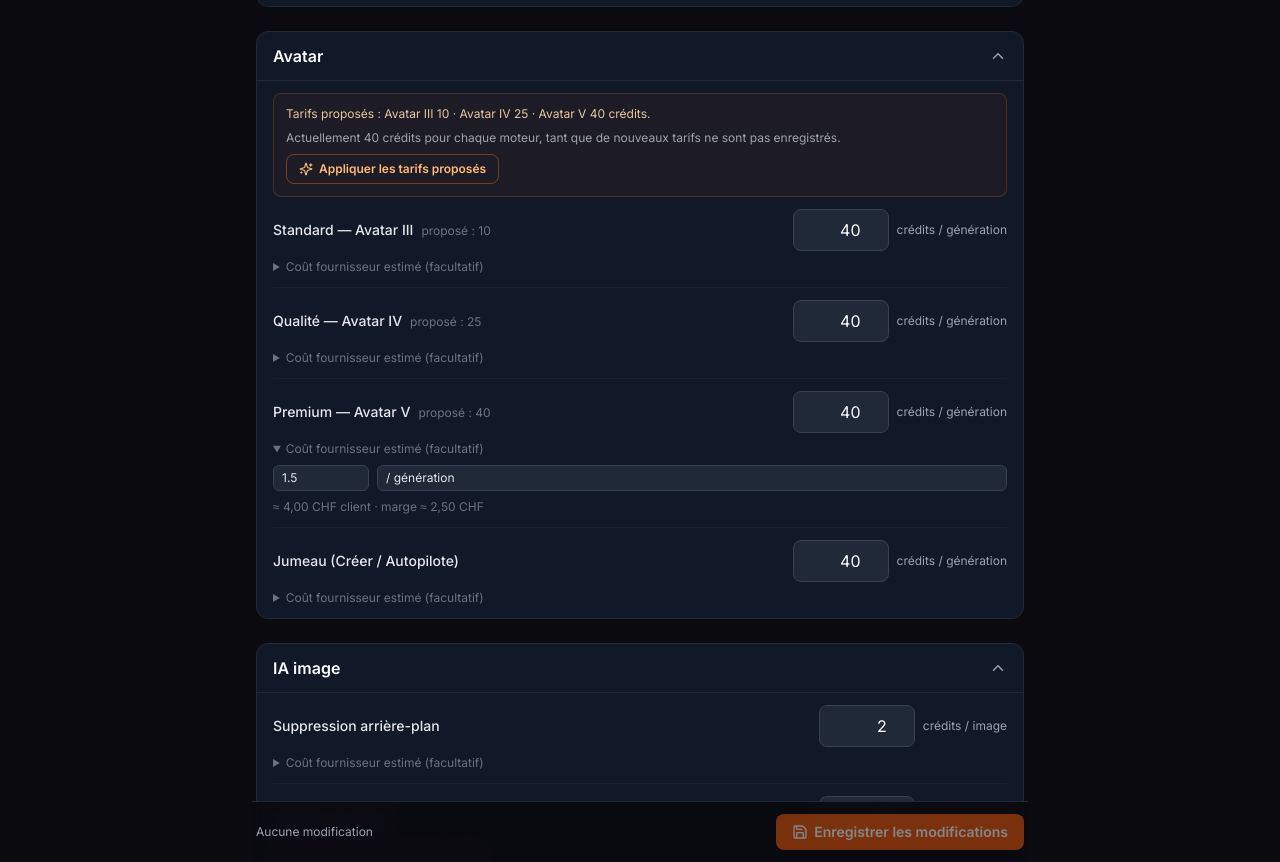
Test: /admin/tarifs › Confirmer envoie un PUT avec les seules clés modifiées
(page scrolled)
Replace the text in the number field labelled "Premium — Avatar V" with "60" at (840, 412), box [792,391,888,433]
(page scrolled)
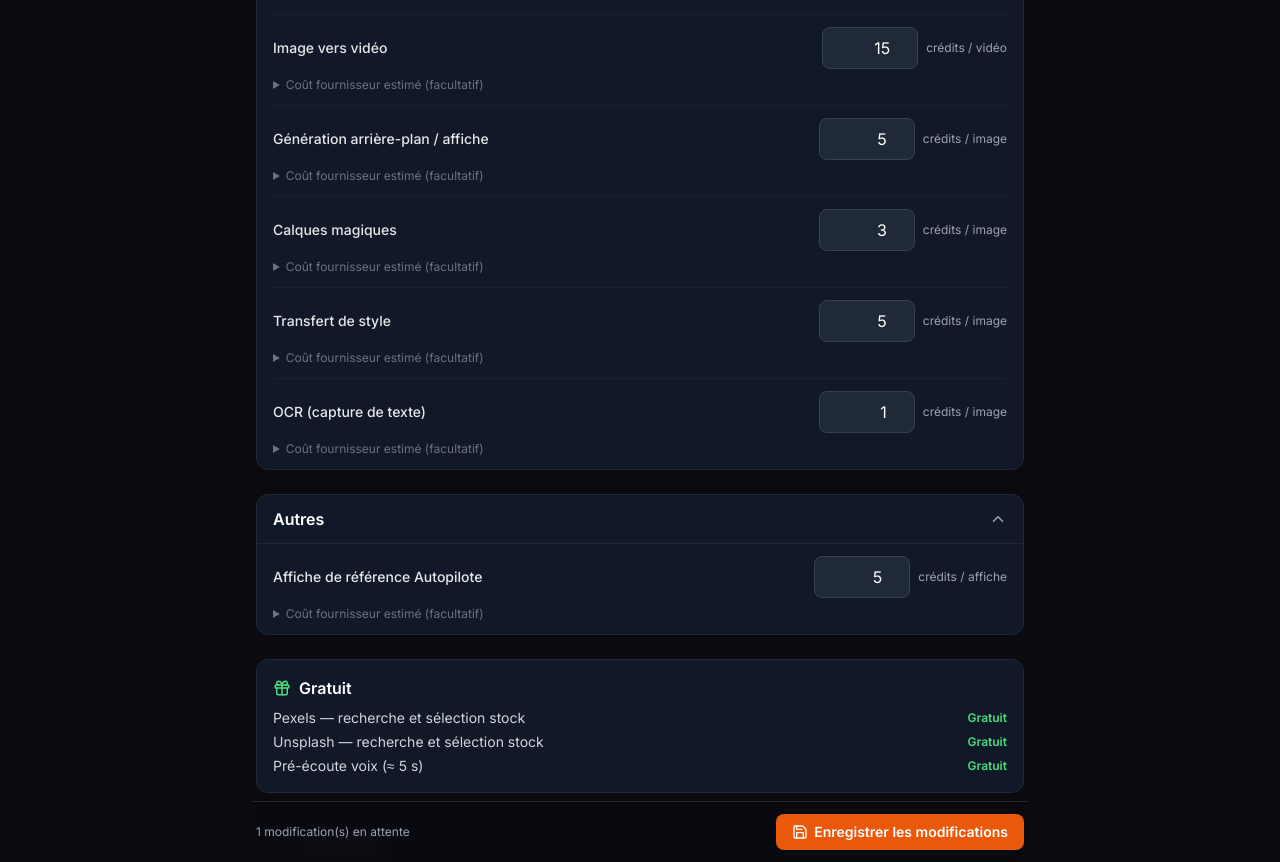
Replace the text in the number field labelled "OCR (capture de texte)" with "2" at (867, 412), box [819,391,915,433]
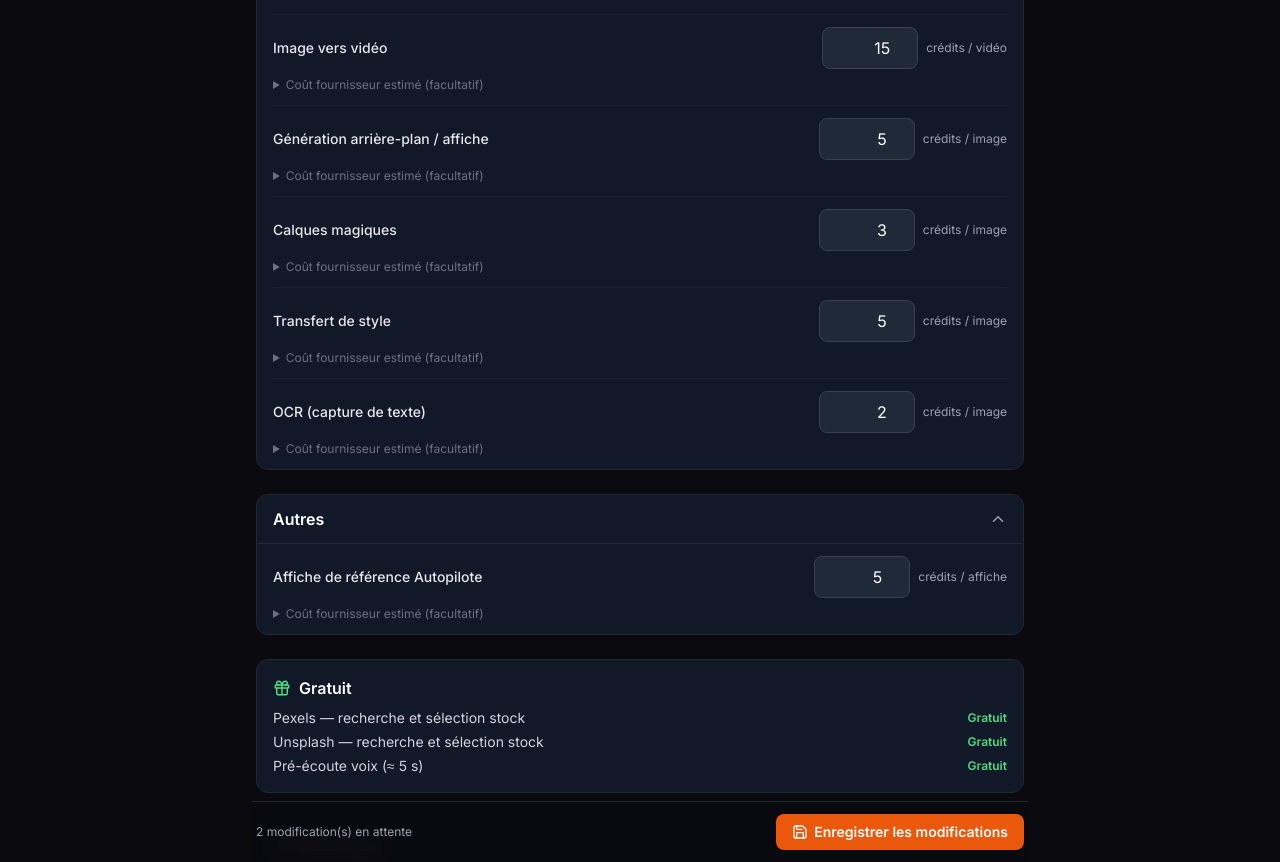
Click the button "Enregistrer les modifications" at (900, 832), box [776,814,1024,850]
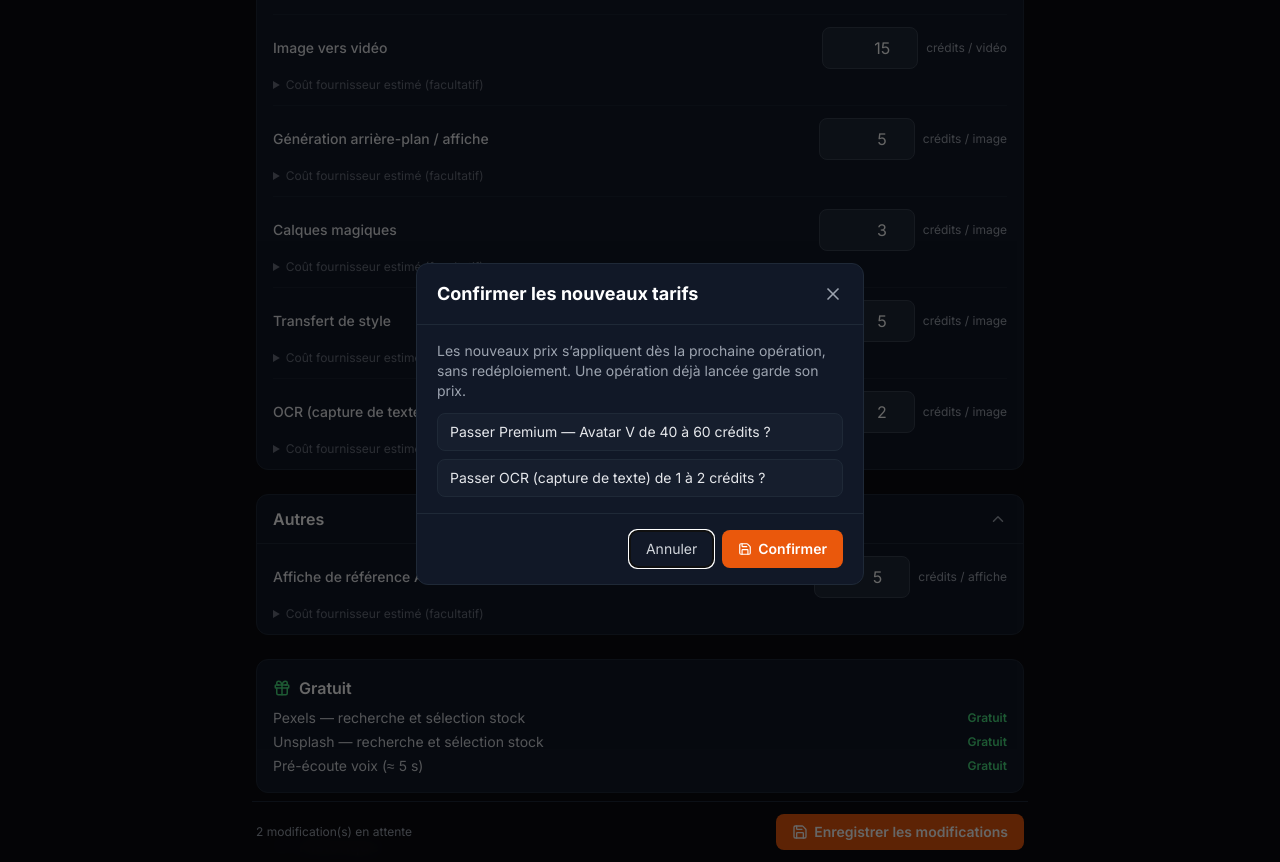
Click the button "Confirmer" at (783, 549), box [722,530,843,568]
(page scrolled)
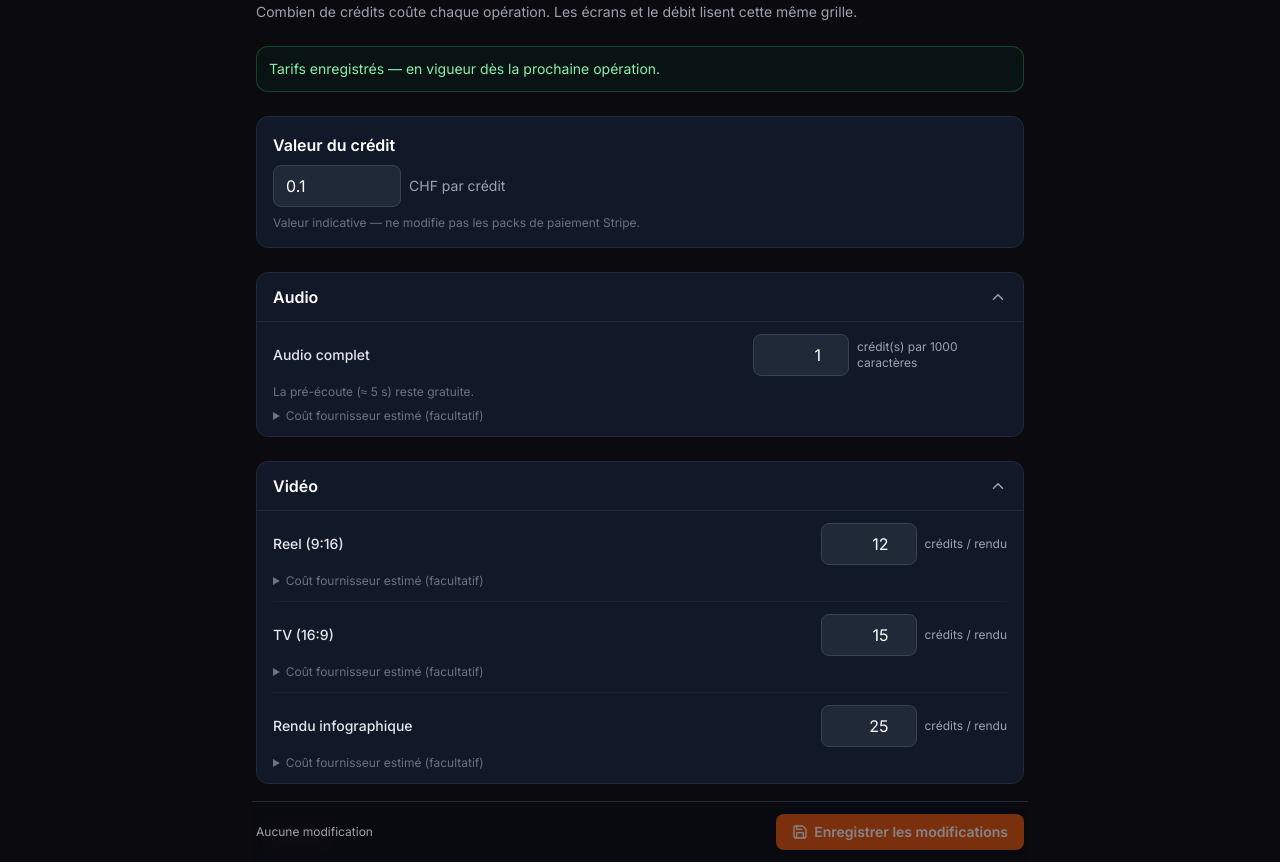
Result: the text "Tarifs enregistrés — en vigueur dès la prochaine opération." is shown at [256,46,1024,92]
